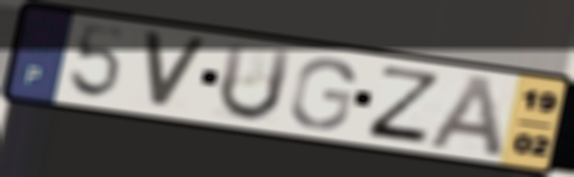5: (65, 21, 131, 101)
A: (423, 72, 508, 160)
G: (286, 56, 359, 132)
U: (214, 40, 296, 124)
V: (139, 28, 211, 113)
Z: (363, 63, 444, 147)
